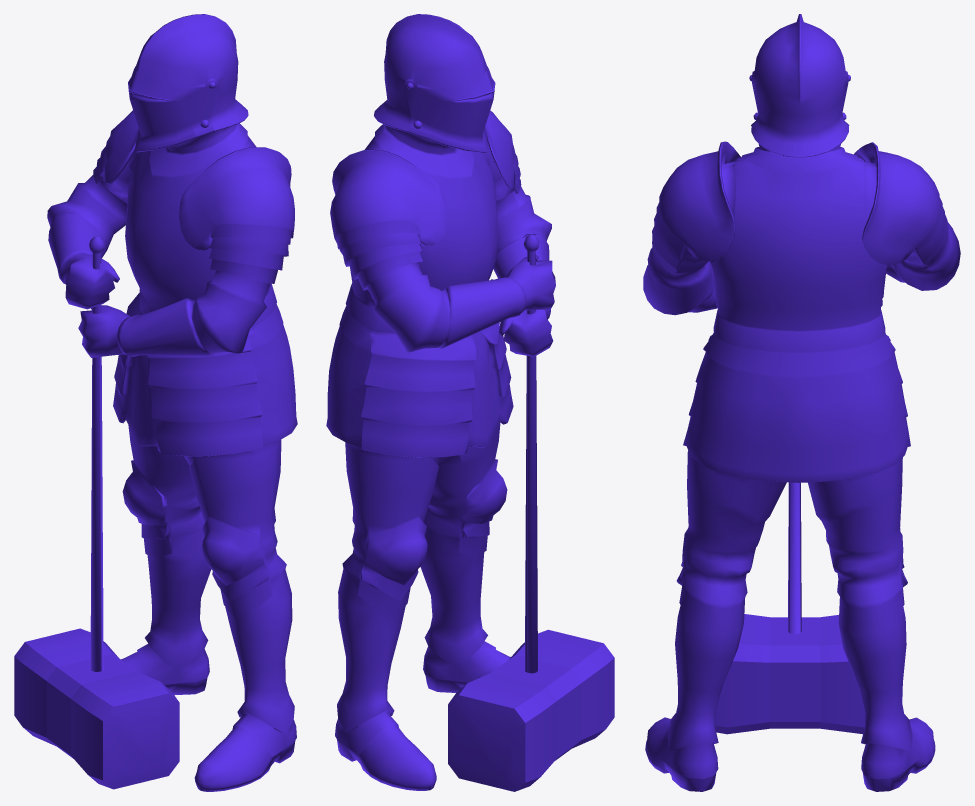
Rendered from Statue_Hammer.fbx.
3 views of the same model, side by side, from view 1: azimuth 30°, elevation 25°; view 2: azimuth 150°, elevation 25°; view 3: azimuth 270°, elevation 25° (orthographic). The views are drawn at different scales.
Visible parts, largest first — view 1: Statue_Hammer; view 2: Statue_Hammer; view 3: Statue_Hammer.
Boxes of the visible parts, left/top/right/bottom form: Statue_Hammer: left=14, top=14, right=297, bottom=791; Statue_Hammer: left=326, top=14, right=614, bottom=791; Statue_Hammer: left=643, top=14, right=960, bottom=791.
Size of the model in its own units: 1.64 by 1.93 by 5.01.
